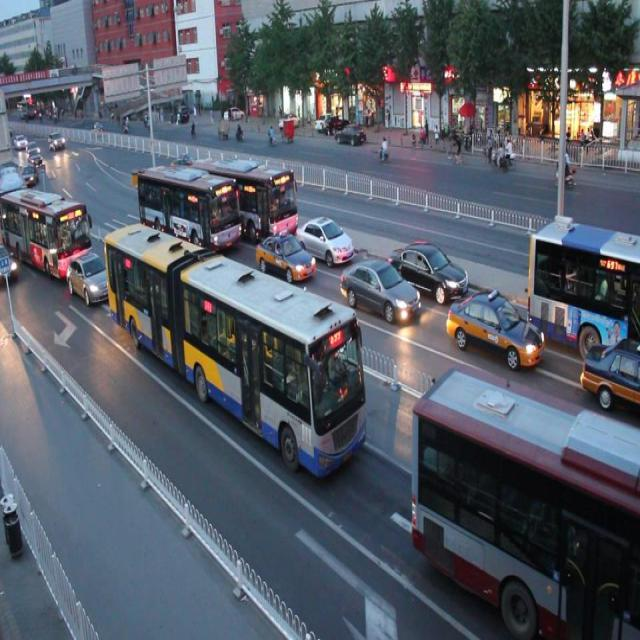car: (444, 290, 545, 371), (340, 257, 419, 324), (387, 238, 467, 304), (578, 336, 640, 403), (296, 212, 353, 267), (254, 230, 314, 282), (67, 250, 112, 303)
van: (104, 222, 367, 480), (412, 366, 640, 640), (528, 218, 640, 351), (138, 162, 241, 252), (194, 153, 297, 239), (1, 186, 90, 277)
